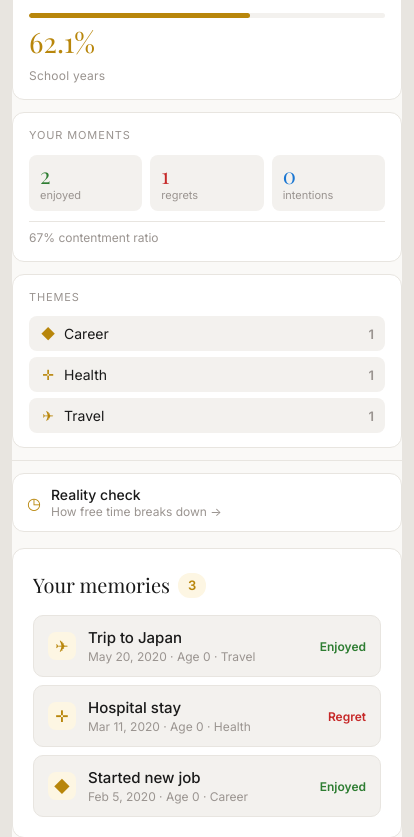
it: Grid — memories panel › filters memories by theme when a theme chip is tapped
(page scrolled)
Click the button with test id "theme-chip-travel": (84, 416) [29, 398, 385, 433]
(page scrolled)
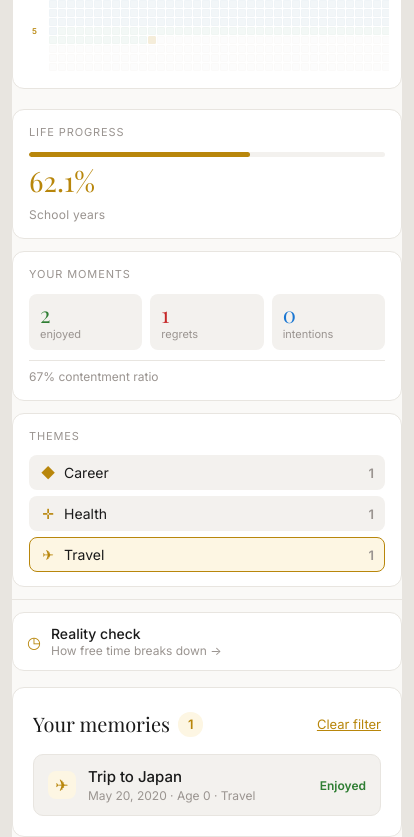
Expected: the text "Trip to Japan" is shown, [88, 767, 182, 786]
Expected: the button "Started new job" is gone
Expected: the button "Hospital stay" is gone
